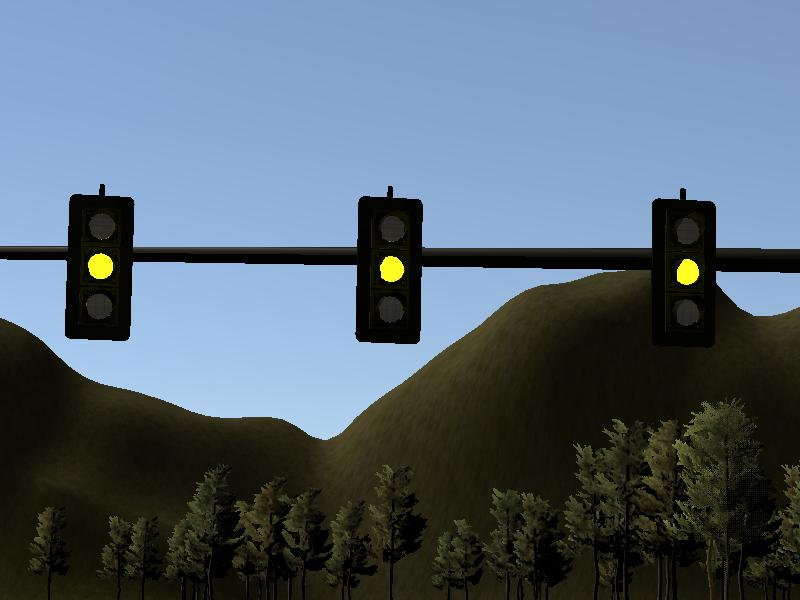not_red: (355, 193, 419, 343), (65, 192, 130, 338), (651, 198, 714, 341)
